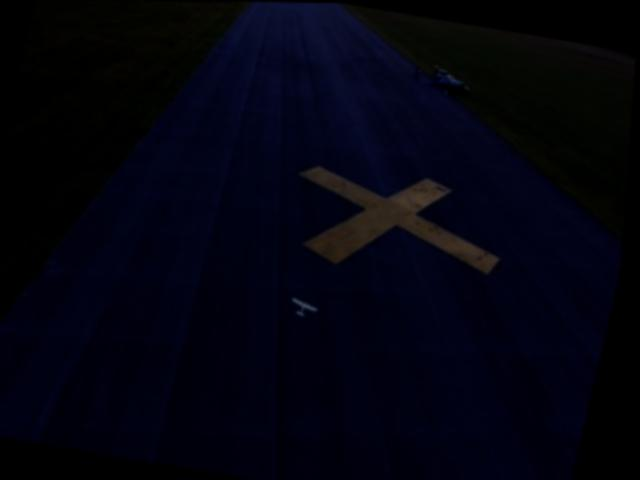uav: (292, 293, 324, 321)
